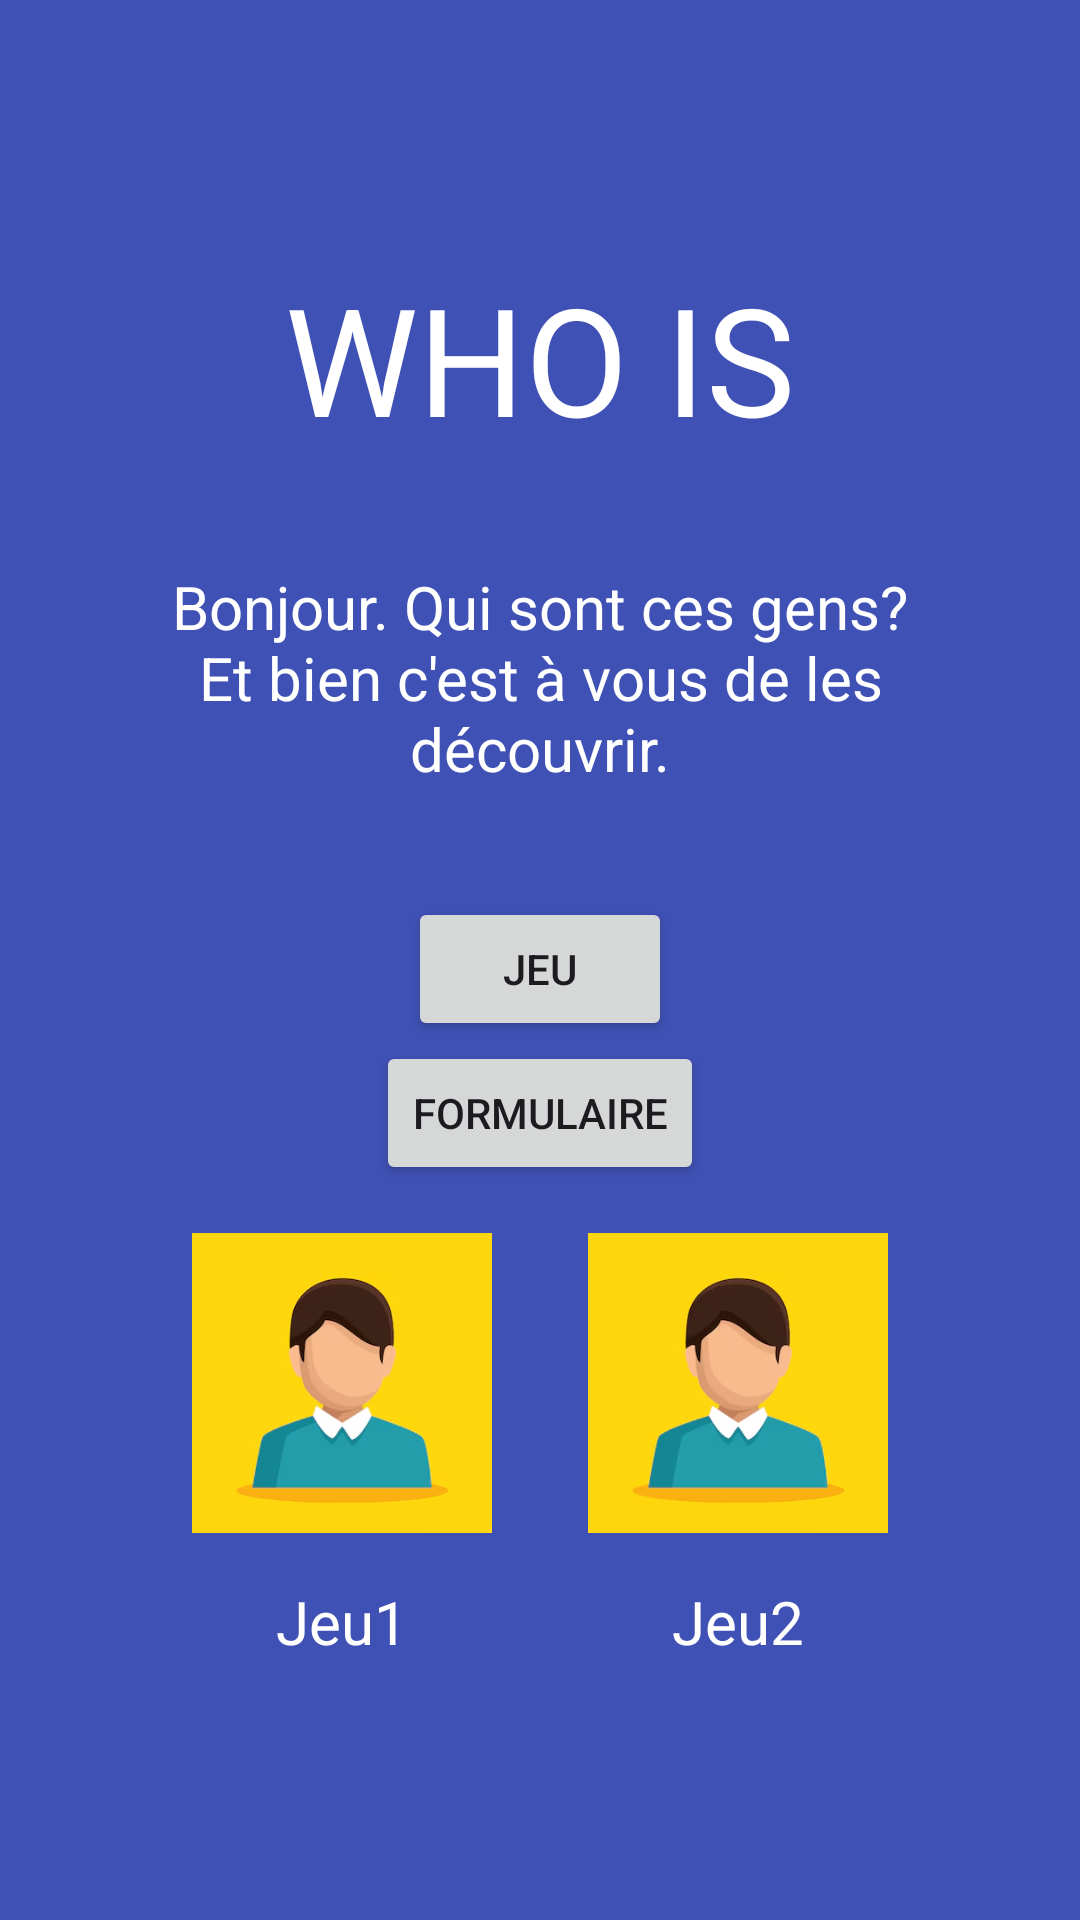

Icon bounding boxes for this 1080×1920 phone screenshot, format (x1, y1, x2, y2):
user: (192, 1233, 492, 1533), (588, 1233, 888, 1533)
